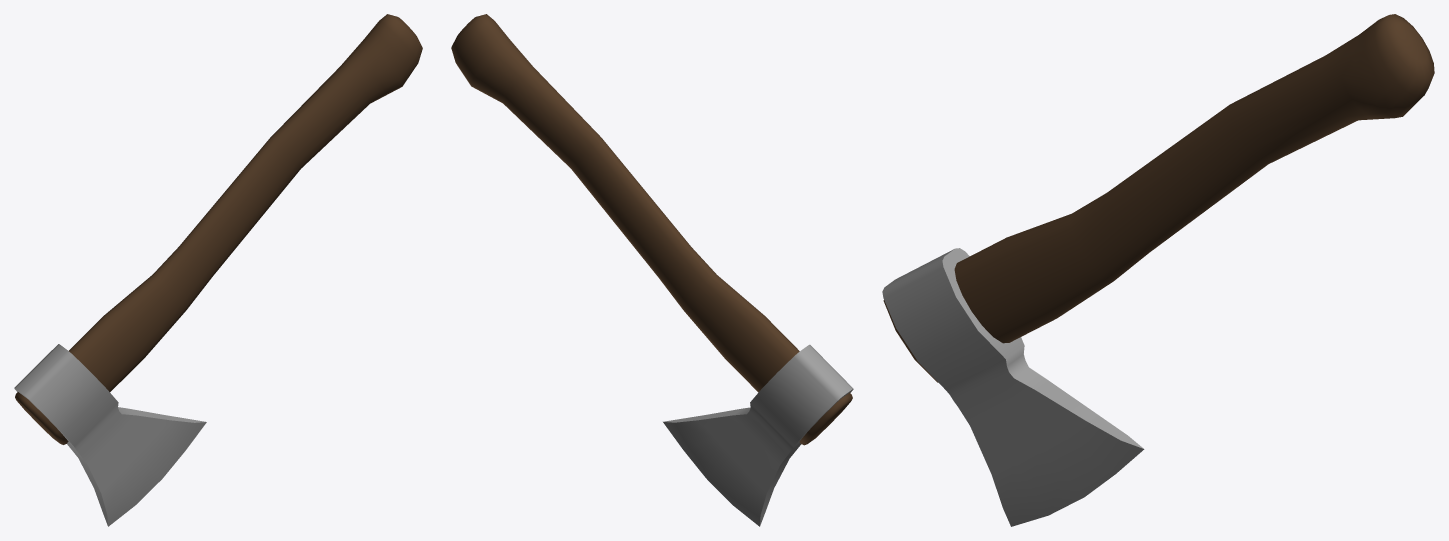
The model's file is hatchet_halloween_2023.glb.
3 views of the same model, side by side, from view 1: azimuth 30°, elevation 25°; view 2: azimuth 150°, elevation 25°; view 3: azimuth 330°, elevation 25° (orthographic). The views are drawn at different scales.
Visible parts, largest first — view 1: 0.002, 1.002; view 2: 0.002, 1.002; view 3: 0.002, 1.002.
Boxes of the visible parts, x1,y1,x2,y2 form: 0.002: (15, 14, 422, 444); 1.002: (14, 344, 206, 526); 0.002: (451, 14, 852, 445); 1.002: (663, 344, 853, 526); 0.002: (883, 14, 1434, 382); 1.002: (882, 248, 1144, 526).
Bounding box in the file's own units: 0.6135 × 0.6536 × 0.0661.
